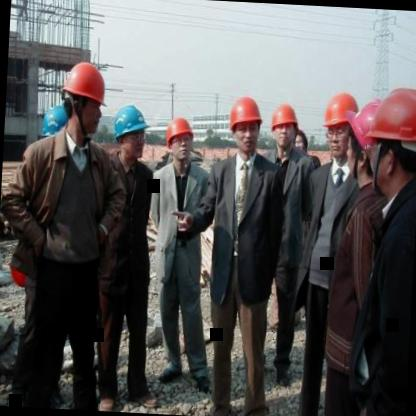helmet: (365, 84, 416, 198), (60, 57, 110, 138), (320, 88, 360, 164), (225, 90, 266, 158), (110, 99, 150, 166), (346, 96, 378, 176), (40, 102, 78, 161), (164, 111, 197, 169), (268, 100, 300, 154)
